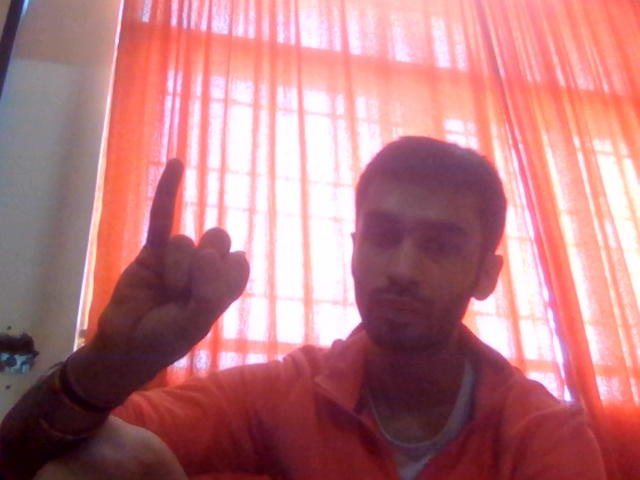I: (86, 130, 265, 397)
